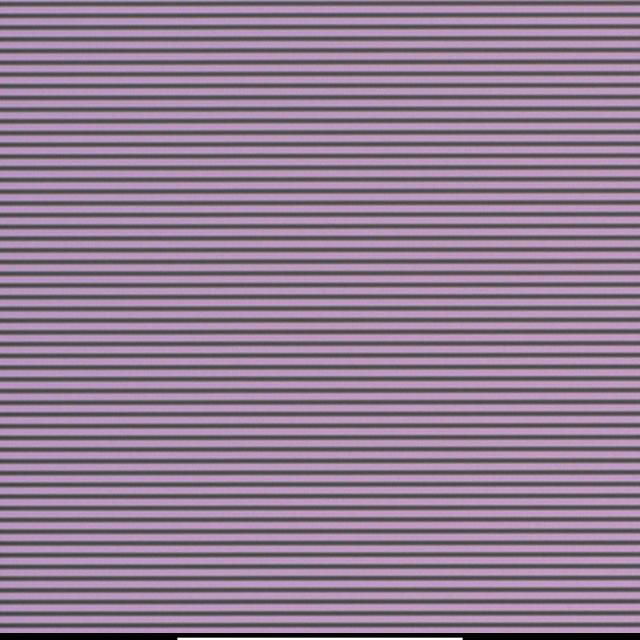nonvisual: (317, 315, 327, 328)
